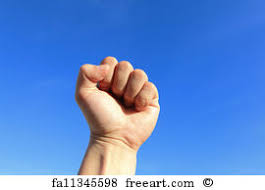fist: (73, 55, 163, 150)
